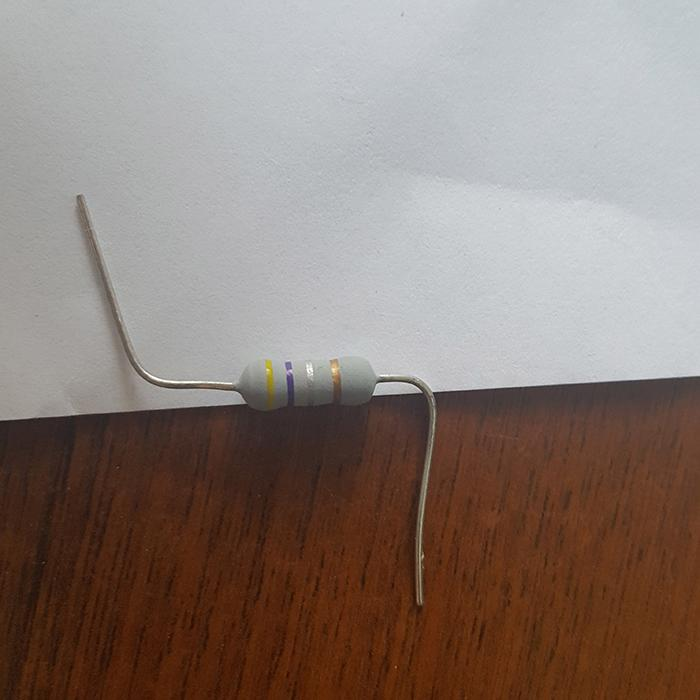resistor: (238, 354, 379, 410)
